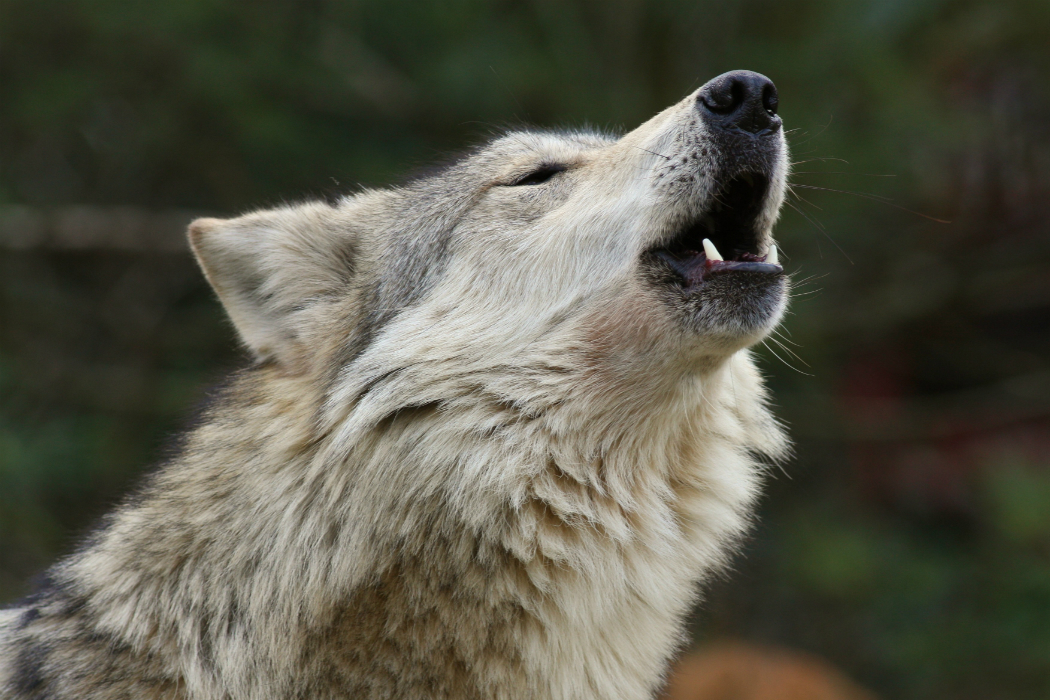Lobo: (43, 50, 815, 608)
